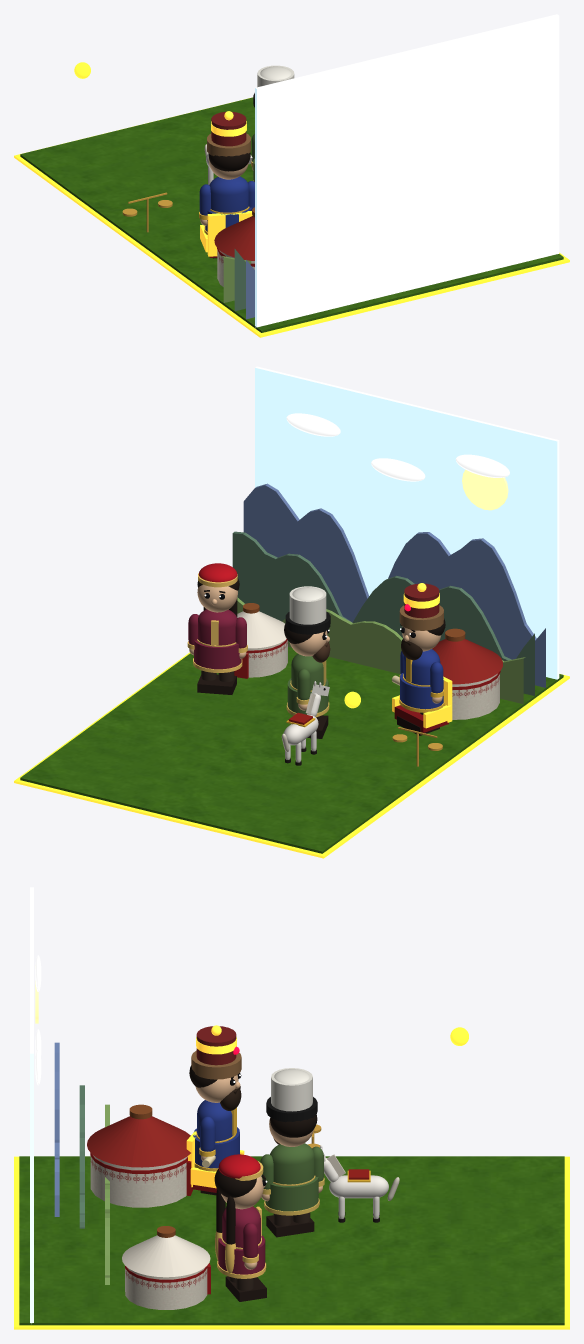
3 views of the same model, one above another, from view 1: azimuth 30°, elevation 25°; view 2: azimuth 150°, elevation 25°; view 3: azimuth 270°, elevation 25° (orthographic). The views are drawn at different scales.
Visible parts, largest first — view 1: Аспан, Жер, Жиек, Torso, Күмбез, Crown, Арқа, Орта жота, Rim, Hair, Жақын төбе, Алыс жота; view 2: Жер, Аспан, Алыс жота, Орта жота, Жақын төбе, Күмбез (×2), Жиек, Кереге (×2), Torso (×3), Бұлт (×3), Skirt (×2), Күн (+4 smaller); view 3: Жер, Күмбез (×2), Кереге (×2), Жиек, Torso (×4), Skirt (×3), Аспан, Hair (×2), Kalpak, Crown, Алыс жота, Орта жота (+5 smaller).
Part boxes in pixels (x1,y1,x2,y2): Аспан: (255,14,559,327); Жер: (20,97,563,332); Жиек: (14,98,569,337); Torso: (209,176,248,212); Күмбез: (214,216,254,260); Crown: (211,111,246,146); Арқа: (207,211,252,256); Орта жота: (234,249,245,311); Rim: (207,133,250,156); Hair: (208,152,250,171); Жақын төбе: (222,256,251,302); Алыс жота: (246,260,254,319); Жер: (20,647,563,853); Аспан: (255,366,559,679); Алыс жота: (243,483,545,687); Орта жота: (232,531,534,695); Жақын төбе: (237,597,525,704); Күмбез (×2): (237,611,502,684); Жиек: (14,652,569,858); Кереге (×2): (246,640,499,719); Torso (×3): (198,609,440,690); Бұлт (×3): (286,413,509,481); Skirt (×2): (194,640,443,709); Күн: (462,469,508,510); Жер: (19,1156,564,1325); Күмбез (×2): (87,1116,210,1277); Кереге (×2): (90,1155,207,1309); Жиек: (14,1156,569,1329); Torso (×4): (197,1100,388,1247); Skirt (×3): (193,1127,318,1274); Аспан: (30,887,33,1323); Hair (×2): (214,1115,317,1197); Kalpak: (271,1068,312,1111); Crown: (196,1026,236,1065); Алыс жота: (54,1042,59,1216); Орта жота: (79,1085,84,1228).
Bounding box in the file's own units: 0.9768 × 0.7206 × 1.33.
Materials: 47 (2 with a texture image).
